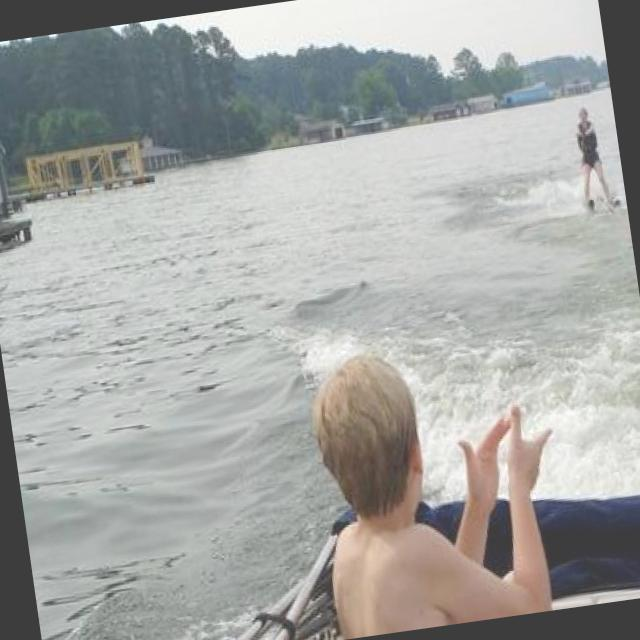no_vest: (321, 491, 530, 640)
